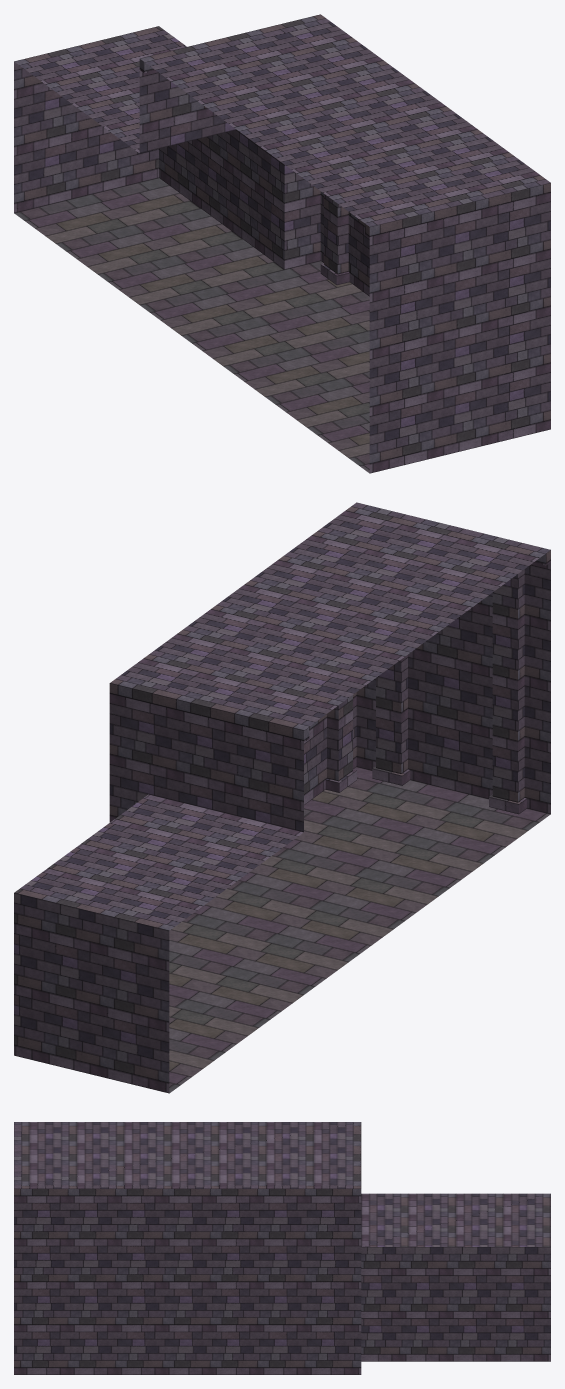
File: citadel_dungeon_east.glb
The picture shows the model from 3 angles, top to bottom: view 1: azimuth 30°, elevation 25°; view 2: azimuth 150°, elevation 25°; view 3: azimuth 270°, elevation 25°; orthographic projection. The views are drawn at different scales.
Visible parts, largest first — view 1: east_Dungeon_Stone, east_Dungeon_Flagstones; view 2: east_Dungeon_Stone, east_Dungeon_Flagstones; view 3: east_Dungeon_Stone.
Part boxes in pixels (x1,y1,x2,y2): east_Dungeon_Stone: [14, 14, 550, 473]; east_Dungeon_Flagstones: [14, 178, 369, 473]; east_Dungeon_Stone: [14, 502, 550, 1093]; east_Dungeon_Flagstones: [169, 767, 550, 1093]; east_Dungeon_Stone: [14, 1122, 550, 1374].
Bounding box in the file's own units: 10 × 13 × 34.
Materials: 2 (2 with a texture image).
